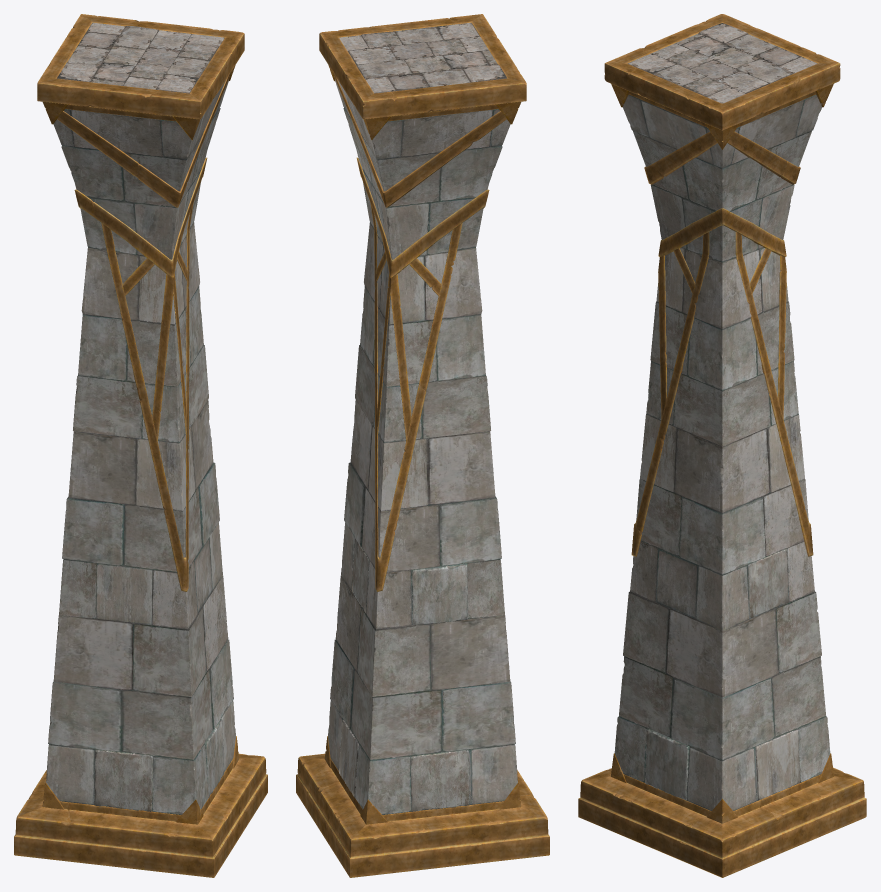
3 views of the same model, side by side, from view 1: azimuth 30°, elevation 25°; view 2: azimuth 150°, elevation 25°; view 3: azimuth 270°, elevation 25° (orthographic).
Visible parts, largest first — view 1: SM_DK_Pyramid_Column_01_LOD0; view 2: SM_DK_Pyramid_Column_01_LOD0; view 3: SM_DK_Pyramid_Column_01_LOD0.
Part boxes in pixels (box(x1,y1,x2,y2)): SM_DK_Pyramid_Column_01_LOD0: box(14, 14, 267, 877); SM_DK_Pyramid_Column_01_LOD0: box(296, 14, 549, 877); SM_DK_Pyramid_Column_01_LOD0: box(578, 14, 866, 877).
Size of the model in its own units: 10.59 by 30.63 by 10.59.
Materials: 3 (3 with a texture image).
